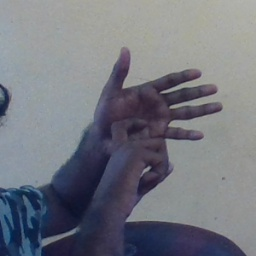R: (79, 40, 224, 192)
